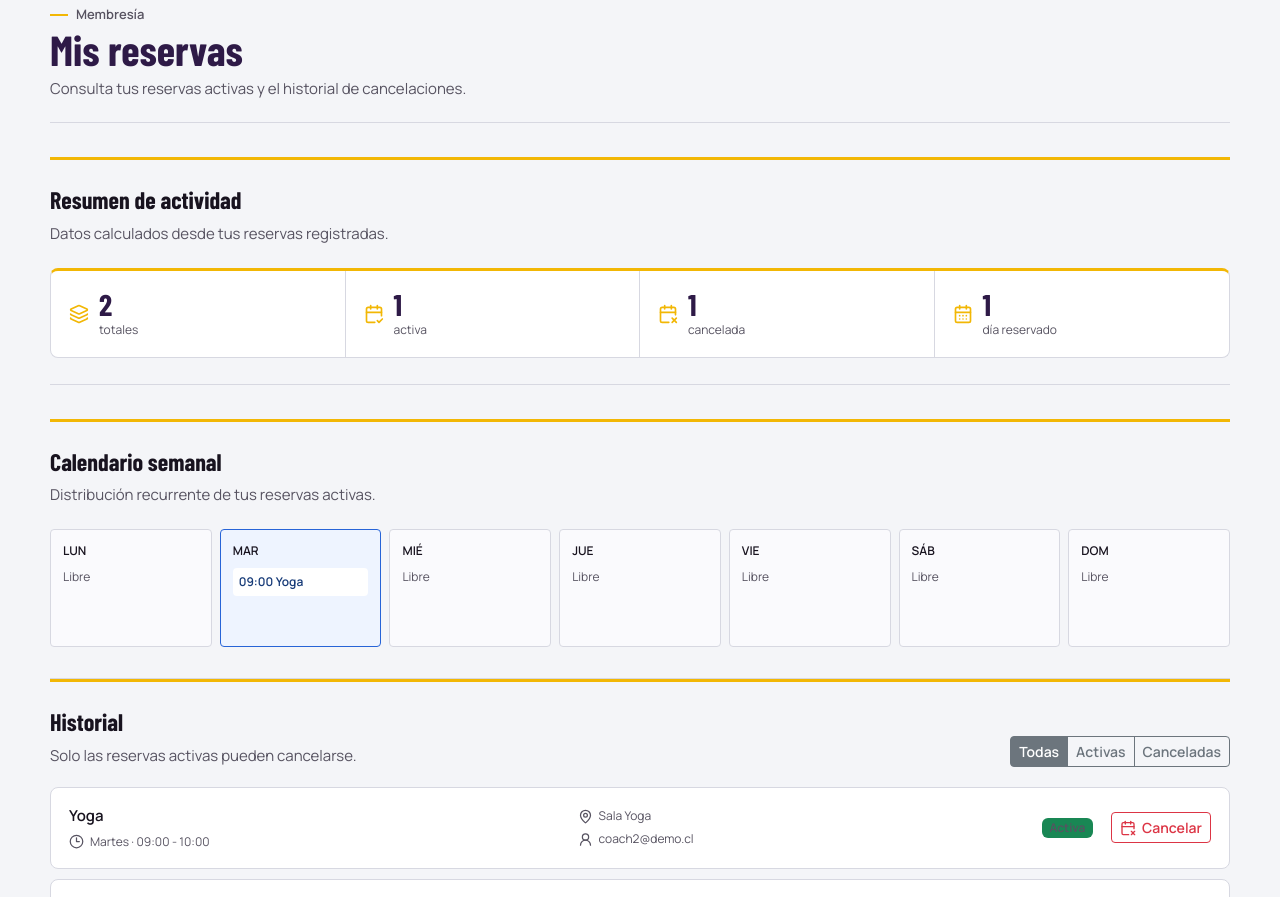
Test: MemberReservationsPage › cancels only an active owned reservation and refreshes summaries
The width and height of the screenshot is (1280, 897).
Step 1. Click the button with aria-label "Cancelar reserva Yoga · Martes 09:00" → x=1161, y=828, box [1111,812,1211,843]
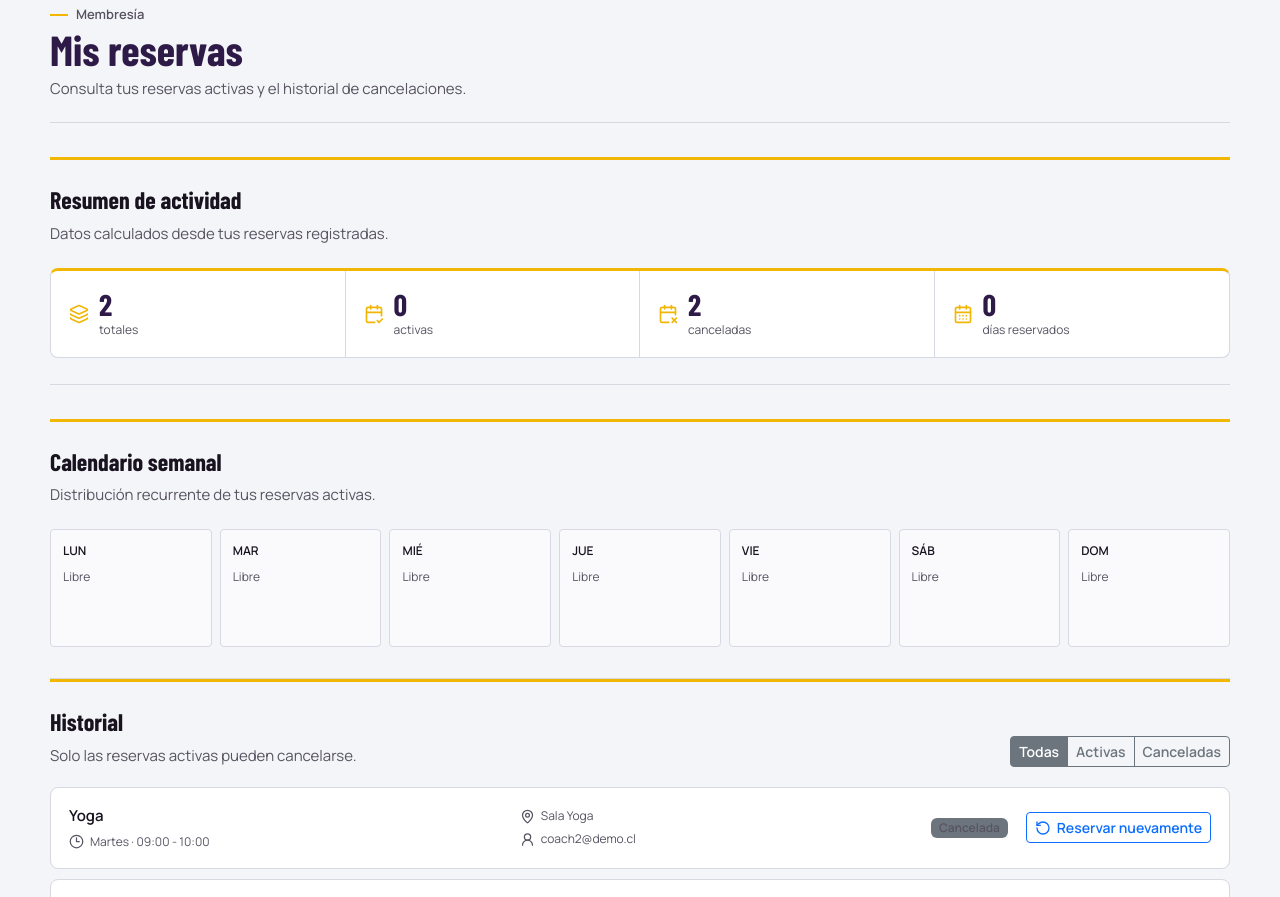
Check: the element named "0 reservas activas" is shown, box [346,270,640,356]
